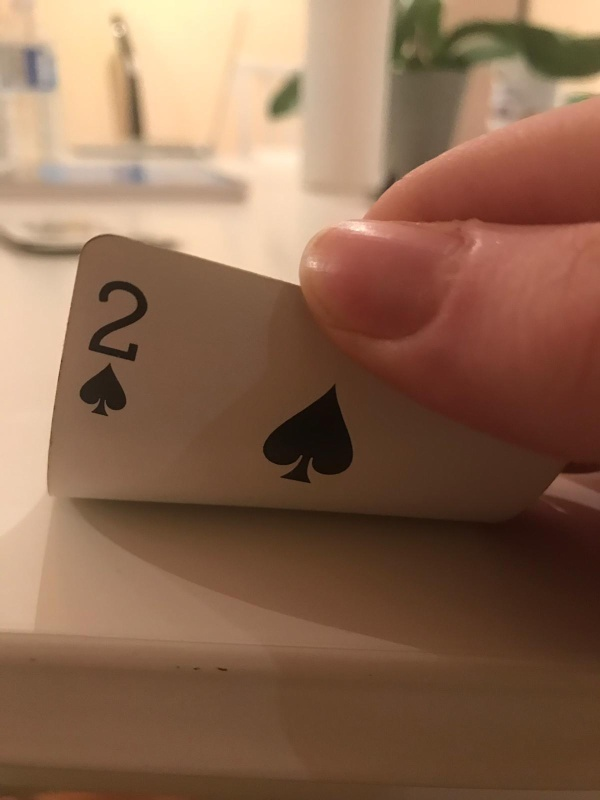S2: (76, 273, 154, 422)
